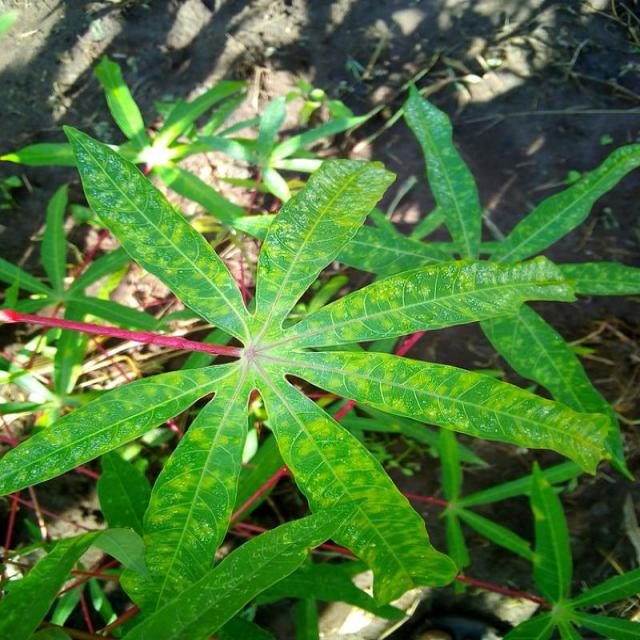cassava leaf: (2, 74, 638, 636), (62, 122, 253, 344)
